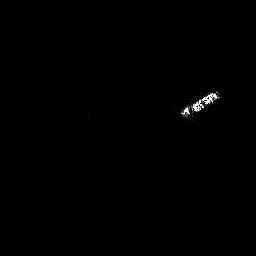ship: (180, 91, 221, 118)
